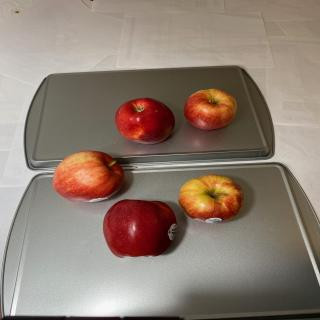Apple: (103, 199, 177, 258), (52, 150, 125, 203), (178, 174, 244, 223), (115, 98, 175, 144), (184, 88, 237, 130)
